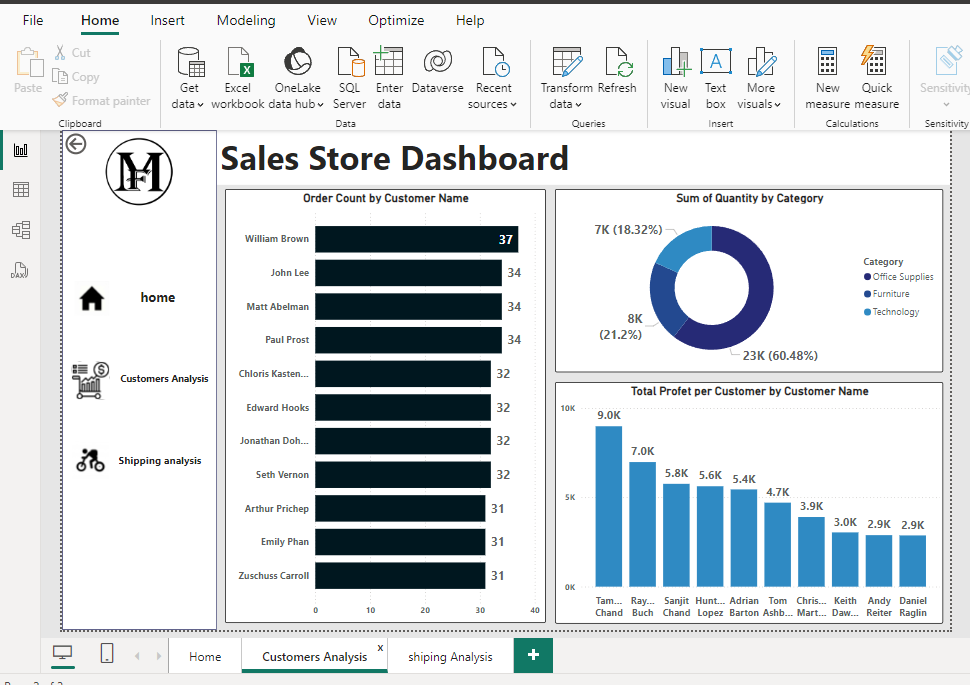

The page's visual inventory and layout, read from the dashboard file:
{"tool":"powerbi","page":{"name":"Customers Analysis","canvas":[1280,720],"ordinal":1},"visuals":[{"type":"shape","box":[0,0,223.2,720],"z":0},{"type":"actionButton","box":[10.1,210.2,66.2,63.4],"z":1000},{"type":"textbox","box":[108,223.2,74.9,36],"z":3000},{"type":"actionButton","box":[10.1,329.8,72,60.5],"z":4000},{"type":"actionButton","box":[10.1,443.5,66.2,63.4],"z":5000},{"type":"textbox","box":[76.3,459.4,145.4,47.5],"z":6000},{"type":"image","box":[0,0,221.8,116.6],"z":7000},{"type":"textbox","box":[223.4,0,1056.6,79],"z":8000},{"type":"textbox","box":[75.6,342.7,144.5,47],"z":15000},{"type":"actionButton","box":[0,0,100,40],"z":16000},{"type":"barChart","fields":{"Category":["Sheet1.Customer Name"],"Y":["Sheet1.Order Count"]},"box":[235.2,85.7,461.9,624.9],"z":16001},{"type":"columnChart","fields":{"Category":["Sheet1.Customer Name"],"Y":["Sheet1.Total Profet per Customer"]},"box":[710.6,362.2,559.4,347.7],"z":16002},{"type":"donutChart","fields":{"Y":["Sum(Sheet1.Quantity)"],"Category":["Sheet1.Category"]},"box":[710.6,85.7,559.4,263.7],"z":16003}]}

Visuals, with their boxes on the page's 1280x720 design canvas (x1, y1, x2, y2). These are canvas units, not pixel positions in the 970x685 screenshot, which may show the page scaled, cropped or inside an application window:
shape: rect(0, 0, 223, 720)
actionButton: rect(10, 210, 76, 274)
textbox: rect(108, 223, 183, 259)
actionButton: rect(10, 330, 82, 390)
actionButton: rect(10, 444, 76, 507)
textbox: rect(76, 459, 222, 507)
image: rect(0, 0, 222, 117)
textbox: rect(223, 0, 1280, 79)
textbox: rect(76, 343, 220, 390)
actionButton: rect(0, 0, 100, 40)
barChart - Sheet1.Customer Name x Sheet1.Order Count: rect(235, 86, 697, 711)
columnChart - Sheet1.Customer Name x Sheet1.Total Profet per Customer: rect(711, 362, 1270, 710)
donutChart - Sum(Sheet1.Quantity) x Sheet1.Category: rect(711, 86, 1270, 349)
